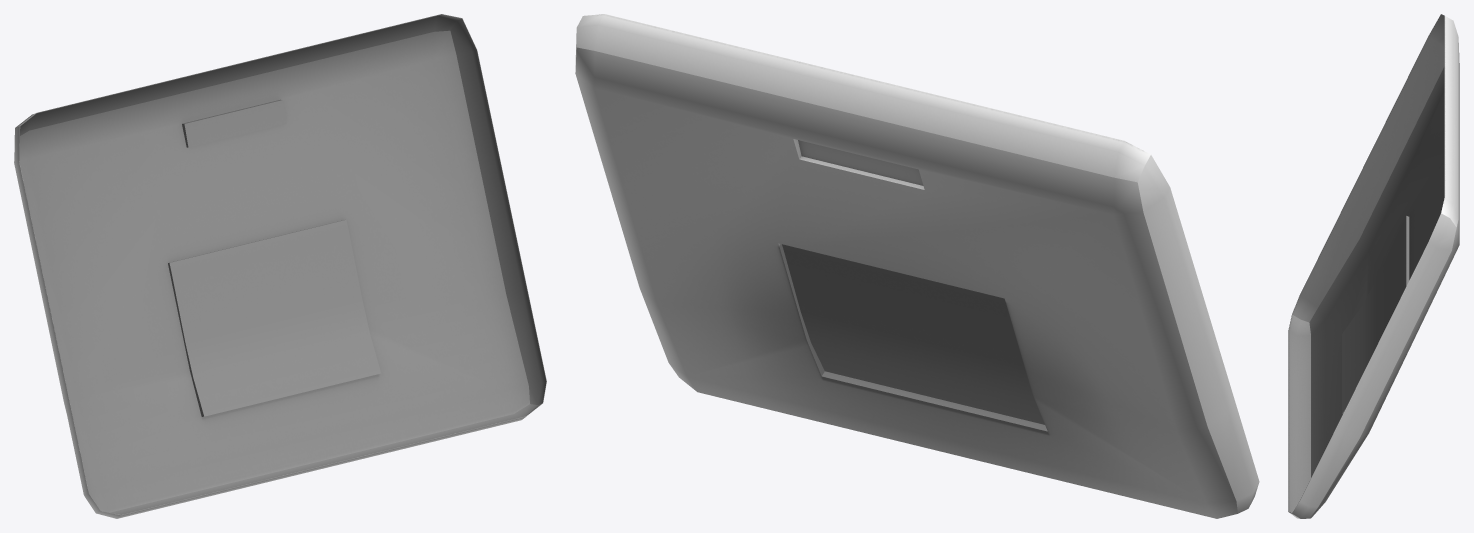
Rendered from UPOS-510(white).fbx.
3 renders of one model, left to right at view 1: azimuth 30°, elevation 25°; view 2: azimuth 150°, elevation 25°; view 3: azimuth 270°, elevation 25°, orthographic. The views are drawn at different scales.
Visible parts, largest first — view 1: B; view 2: B; view 3: B.
Boxes of the visible parts, <box> form: B: <box>14,14,546,518</box>; B: <box>575,14,1259,518</box>; B: <box>1288,14,1459,518</box>.
Size of the model in its own units: 35.59 by 25.8 by 12.47.
Materials: 1 (1 with a texture image).
